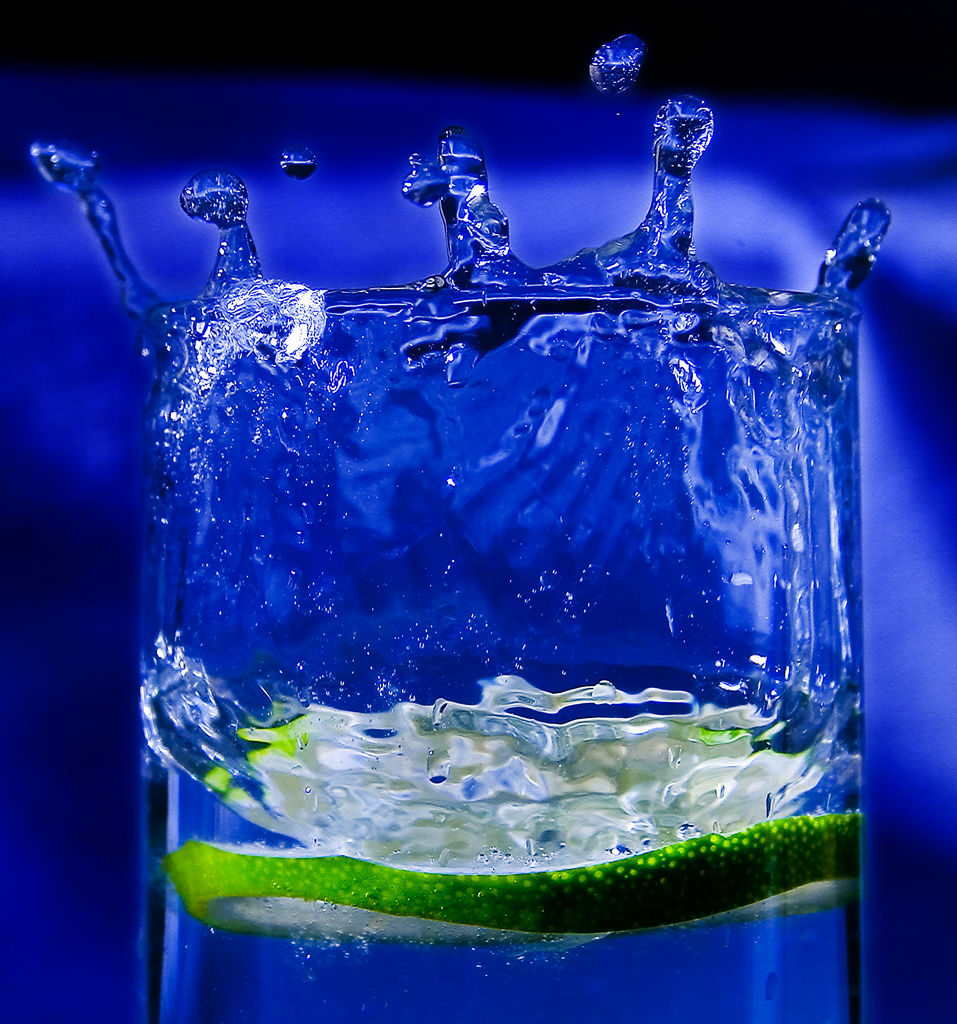glass of water: (193, 309, 861, 1014)
